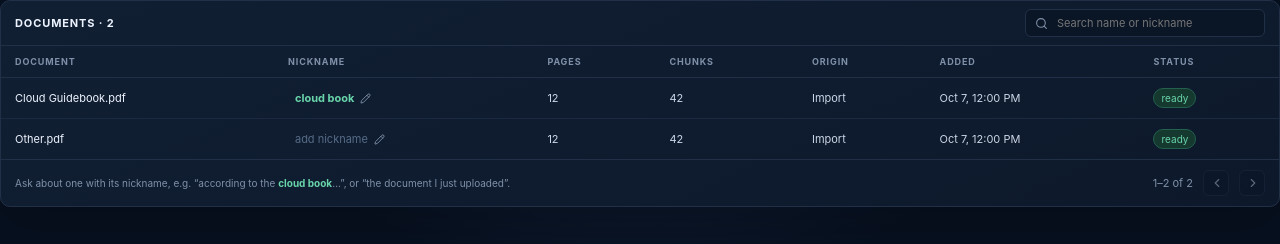
Test: DocumentsTable nicknames › unwraps validation errors from FastAPI
Click the button "cloud book".
click(333, 98)  # box [288, 87, 378, 109]
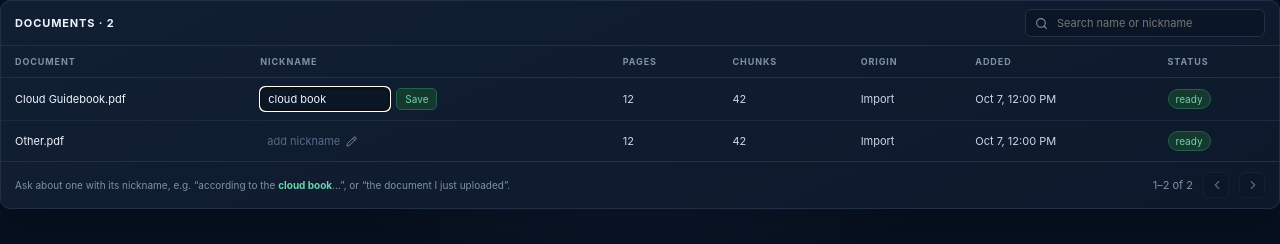
Click the button "Save".
click(417, 99)  # box [396, 88, 437, 110]
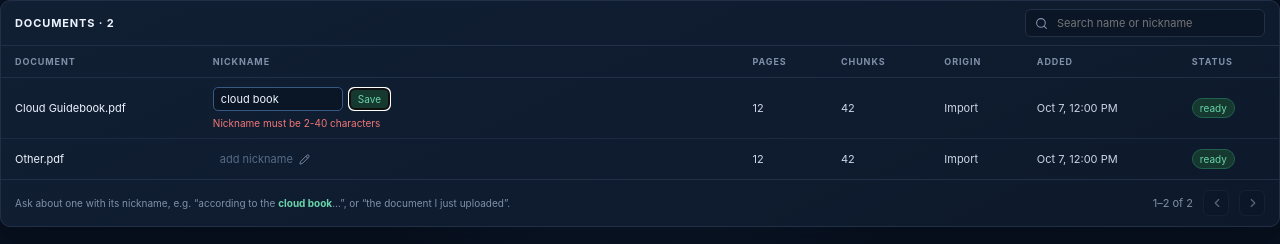
Result: the text "Nickname must be 2-40 characters" is shown at [213, 117, 380, 129]
